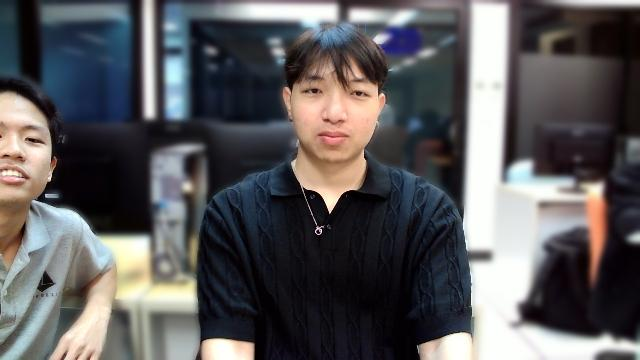fokus: (283, 51, 385, 165)
